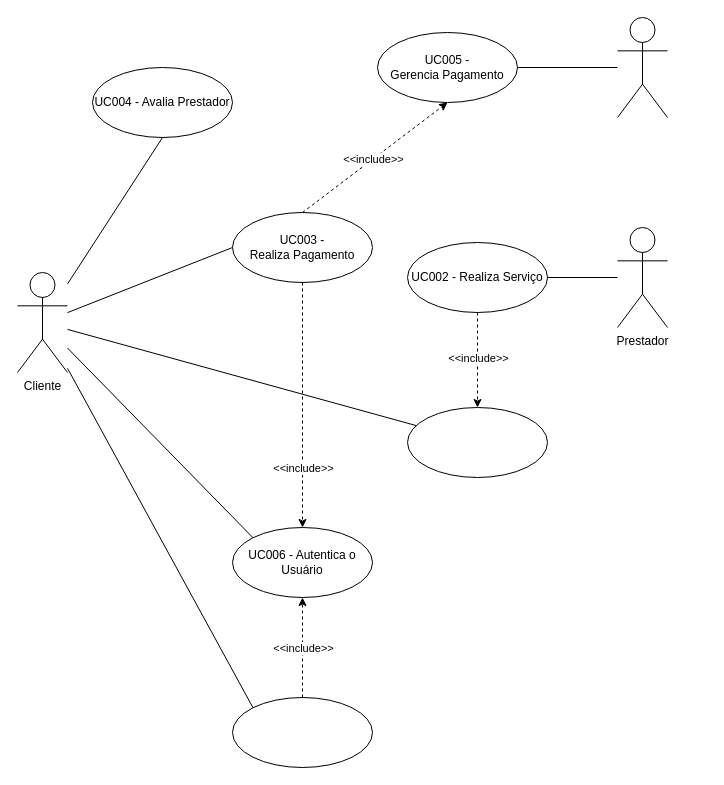
The diagram is 724 pixels wide and 785 high, and some of its shapes have lost their labels. The box of each missing label's shape, as (x1, y1, x2, y2) in pixels:
Gateway de Pagamento: (616, 16, 668, 118)
UC001 - Realiza Agendamento: (232, 696, 372, 768)
UC007 - Autoriza o Prestador: (406, 406, 548, 478)
